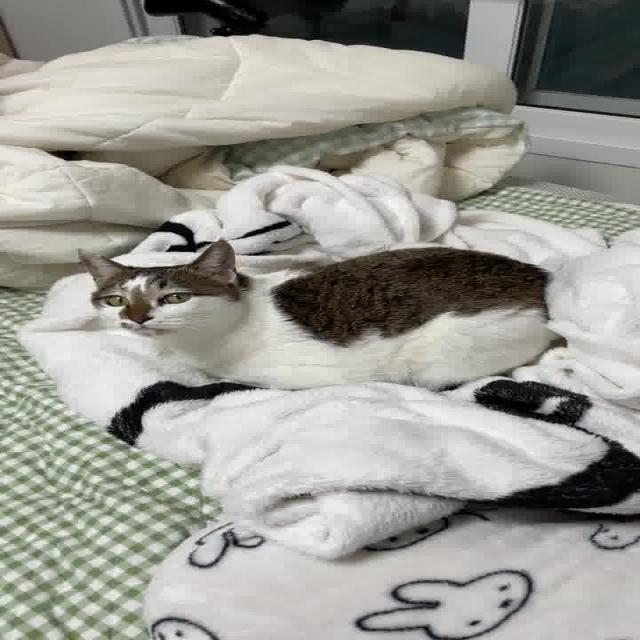cat: (35, 228, 640, 403)
